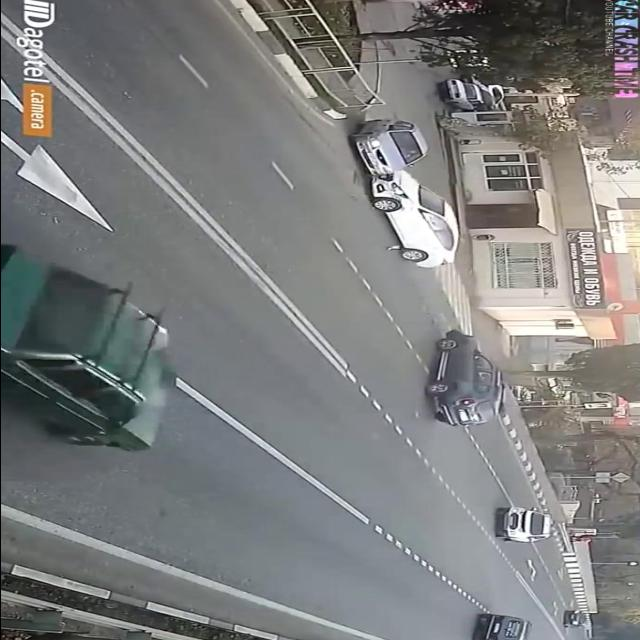accident: (347, 118, 473, 274)
